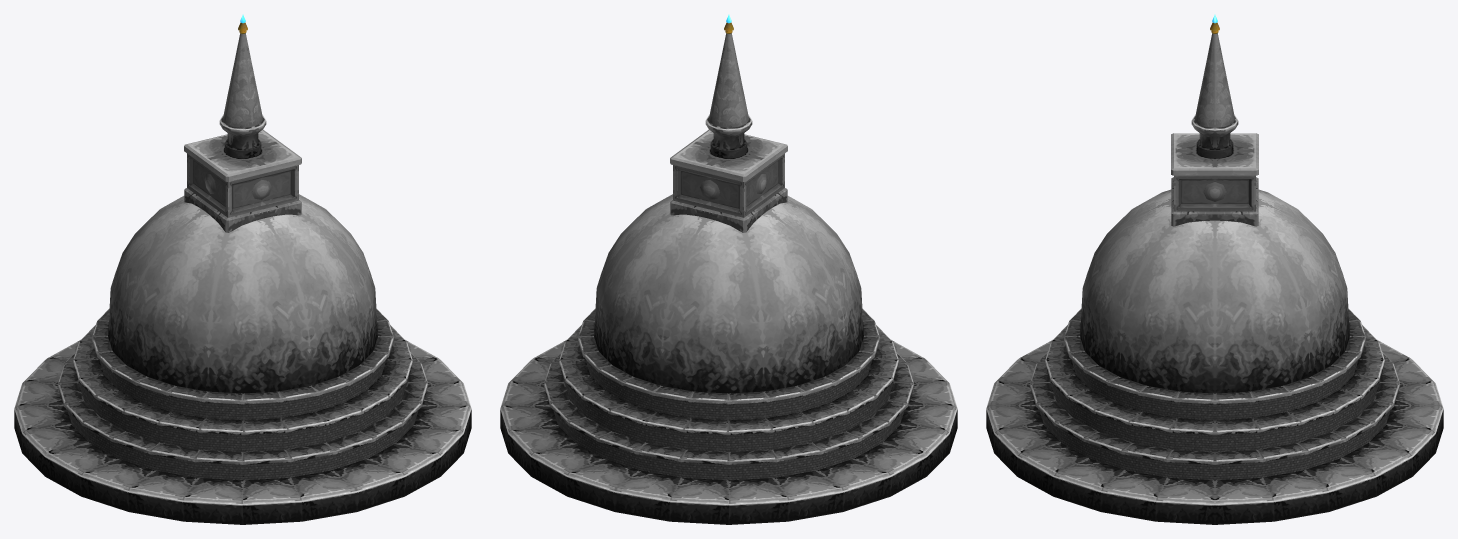
The model's file is VV-VeheraVihara [FBX for Unity].fbx.
The picture shows the model from 3 angles, left to right: view 1: azimuth 30°, elevation 25°; view 2: azimuth 150°, elevation 25°; view 3: azimuth 270°, elevation 25°; orthographic projection.
Visible parts, largest first — view 1: Stupa; view 2: Stupa; view 3: Stupa.
Boxes of the visible parts, left/top/right/bottom form: Stupa: left=14, top=14, right=471, bottom=524; Stupa: left=500, top=14, right=957, bottom=524; Stupa: left=986, top=14, right=1443, bottom=524.
Size of the model in its own units: 16 by 16 by 16.
